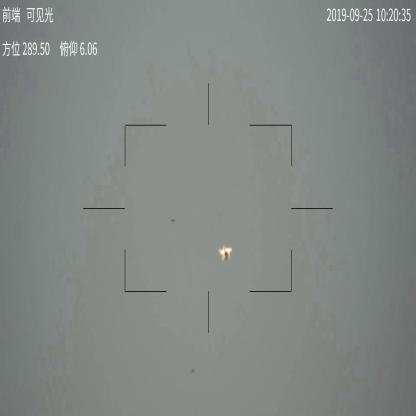uav: (218, 244, 234, 264)
